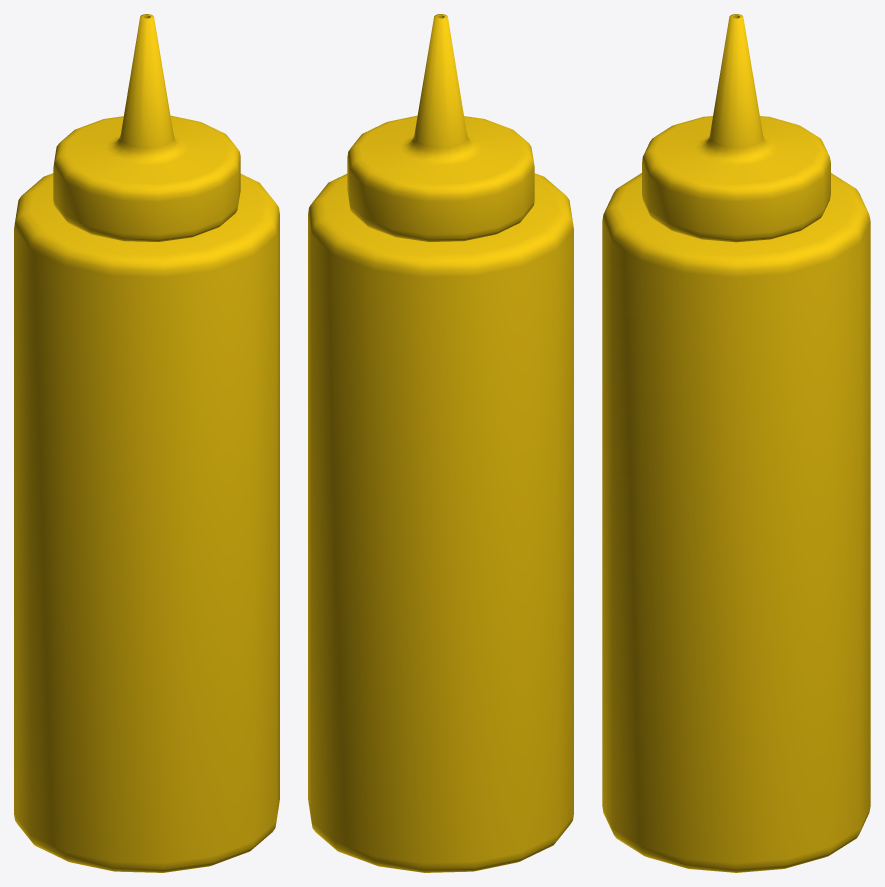
Rendered from SauceBottle_Visual.fbx.
The picture shows the model from 3 angles, left to right: view 1: azimuth 30°, elevation 25°; view 2: azimuth 150°, elevation 25°; view 3: azimuth 270°, elevation 25°; orthographic projection.
Parts seen in each view (by area): view 1: SauceBottle; view 2: SauceBottle; view 3: SauceBottle.
Boxes of the visible parts, x1=… form: SauceBottle: x1=14, y1=14, x2=279, y2=872; SauceBottle: x1=308, y1=14, x2=573, y2=872; SauceBottle: x1=602, y1=14, x2=870, y2=872.
Bounding box in the file's own units: 8.64 × 28.58 × 8.64.
